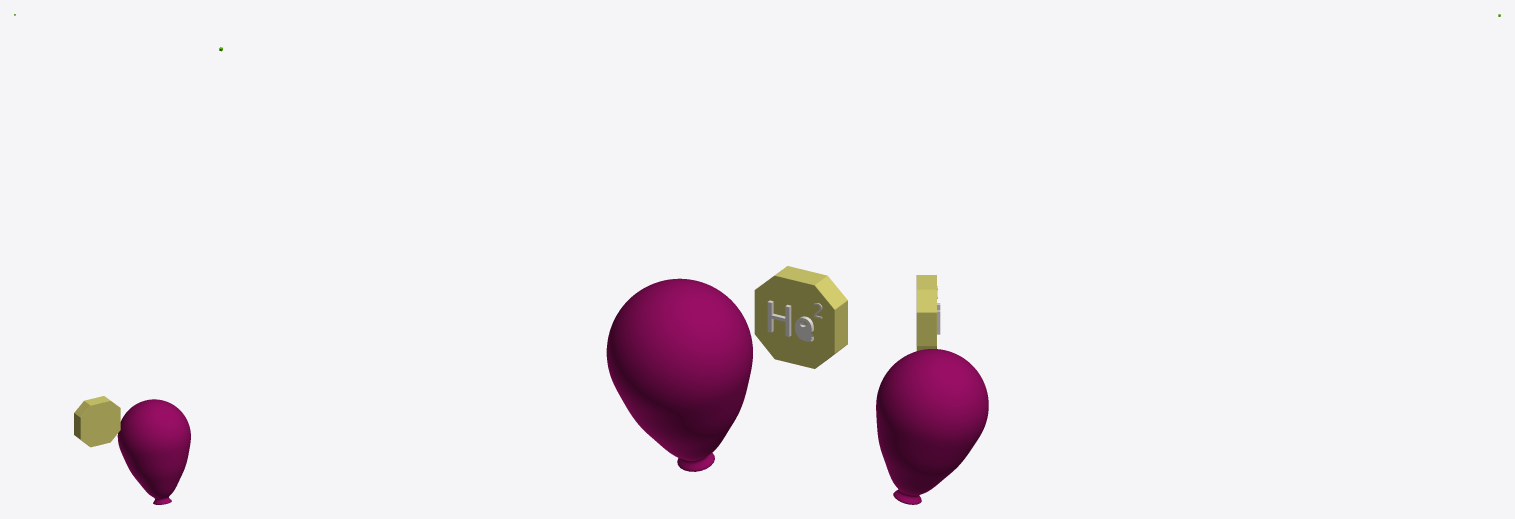
The model's file is Helium Object.fbx.
3 views of the same model, side by side, from view 1: azimuth 30°, elevation 25°; view 2: azimuth 150°, elevation 25°; view 3: azimuth 270°, elevation 25° (orthographic). The views are drawn at different scales.
Parts seen in each view (by area): view 1: Helium; view 2: Helium; view 3: Helium.
Part boxes in pixels (x1,y1,x2,y2): Helium: (74,396,190,504); Helium: (606,266,847,471); Helium: (876,275,988,504).
Size of the model in its own units: 3.1 by 8.06 by 8.77.
